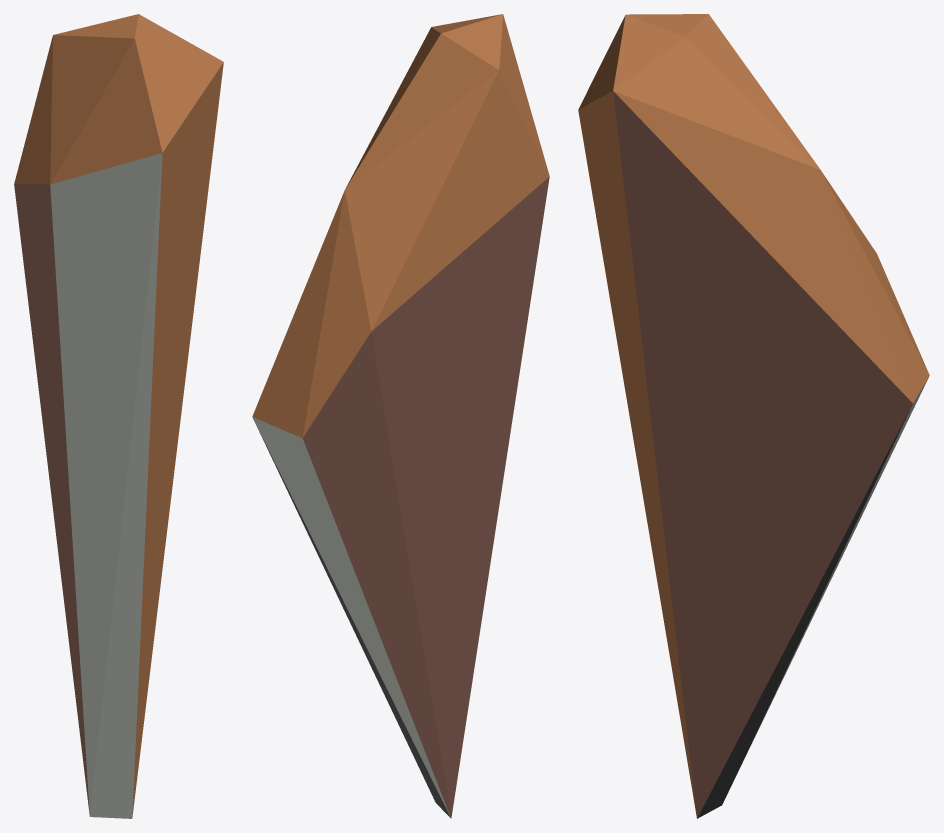
Rendered from BirchTree_Autumn_5.lod4.glb.
3 renders of one model, left to right at view 1: azimuth 30°, elevation 25°; view 2: azimuth 150°, elevation 25°; view 3: azimuth 270°, elevation 25°, orthographic. The views are drawn at different scales.
Visible parts, largest first — view 1: BirchTree_Autumn_5; view 2: BirchTree_Autumn_5; view 3: BirchTree_Autumn_5.
Boxes of the visible parts, x1,y1,x2,y2 form: BirchTree_Autumn_5: (14, 14, 223, 818); BirchTree_Autumn_5: (252, 14, 549, 818); BirchTree_Autumn_5: (578, 14, 929, 818).
Size of the model in its own units: 1.19 by 5.03 by 2.03.
